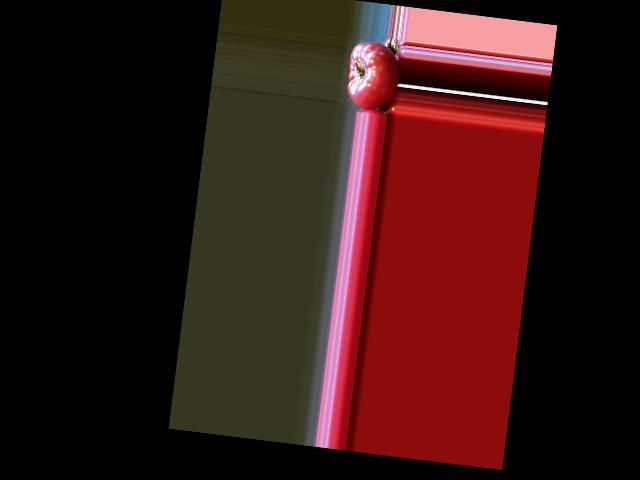tomato: (344, 39, 403, 114)
